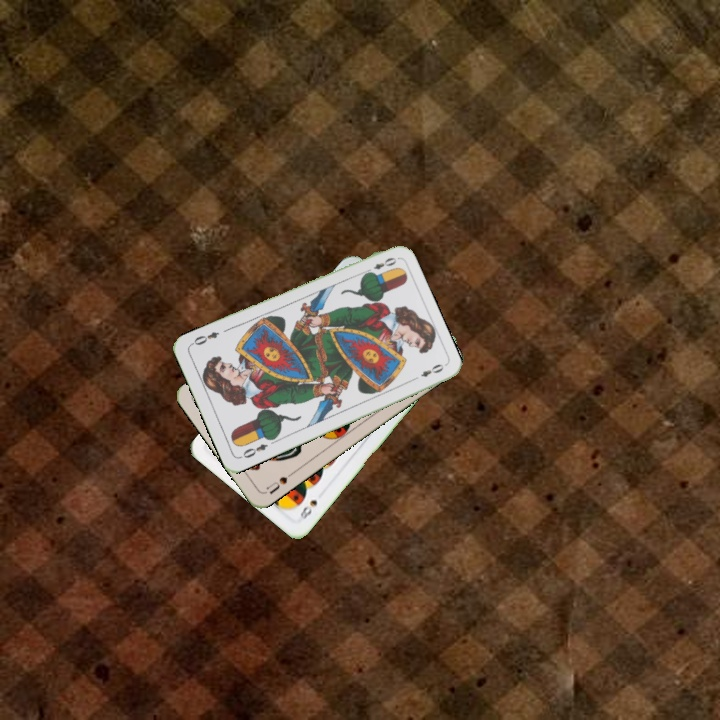EO: (360, 253, 399, 277), (236, 440, 270, 461)
S8: (296, 496, 320, 522)
SU: (262, 468, 296, 497)
